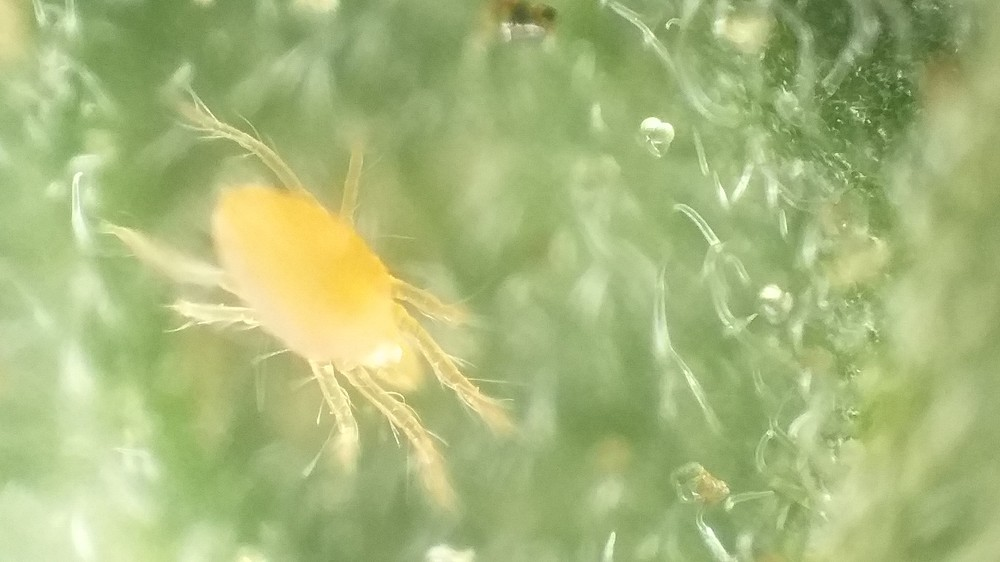Aracnido Rojo: (103, 86, 555, 517)
